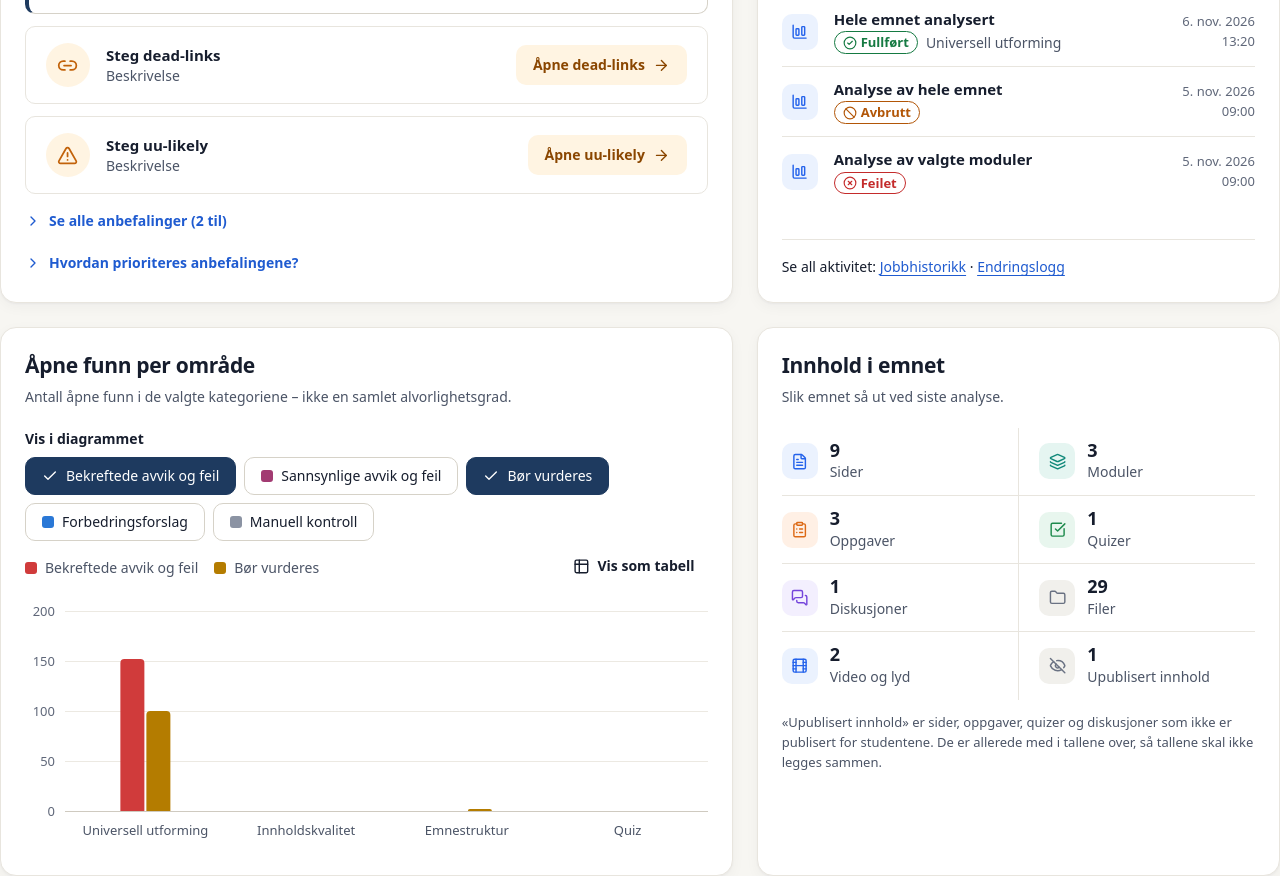
Test: Emneoversikt › shows confirmed violations and «Bør vurderes» in the chart by default; the table follows the choice
(page scrolled)
Check: the text "Antall åpne funn i de valgte kategoriene – ikke en samlet alvorlighetsgrad." is shown, box [25,386,512,408]
Click the button "Vis som tabell" at (634, 566), box [560,549,708,583]
(page scrolled)
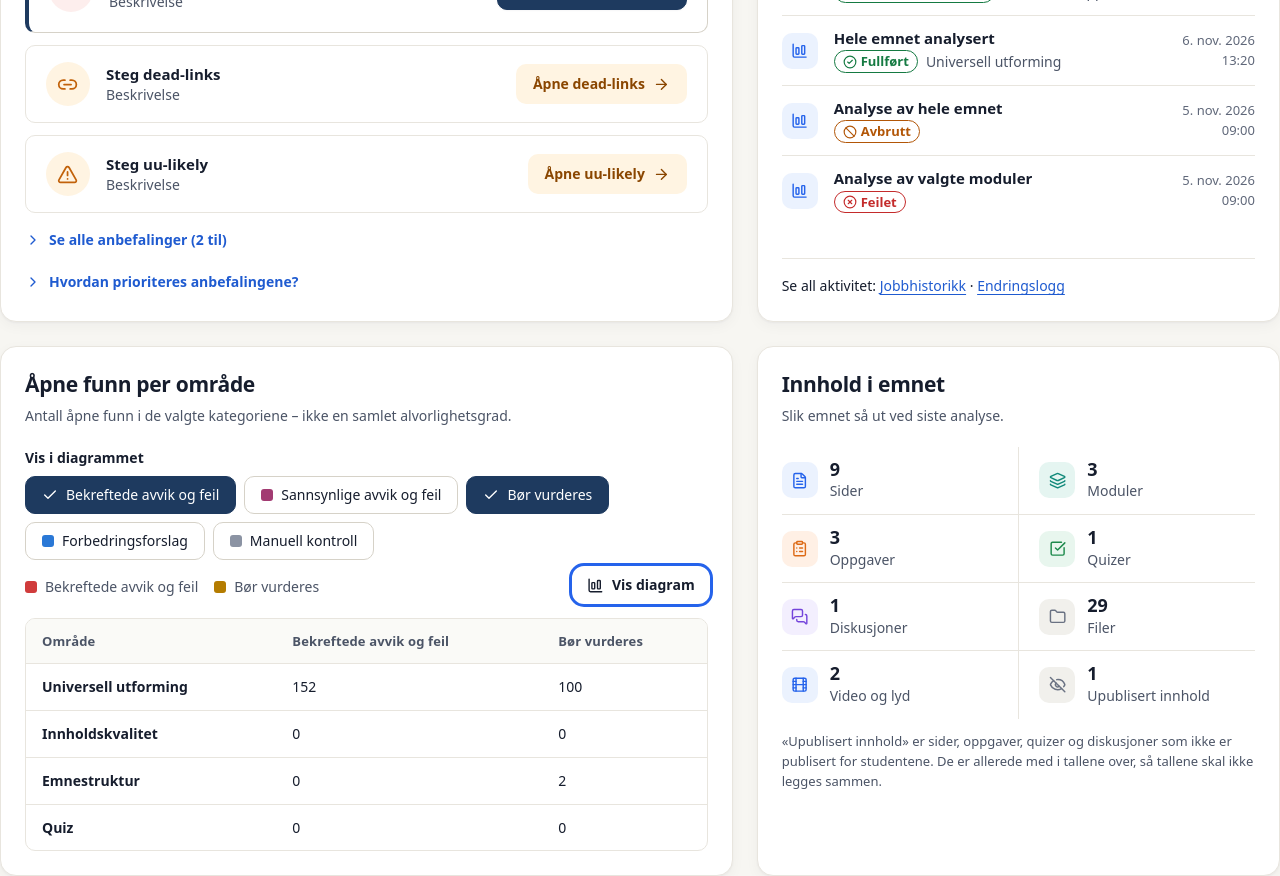
Check: the row "Universell utforming 152 100" is shown, box [26,664,707,711]
Click the button "Sannsynlige avvik og feil" at (351, 495), box [244,476,458,514]
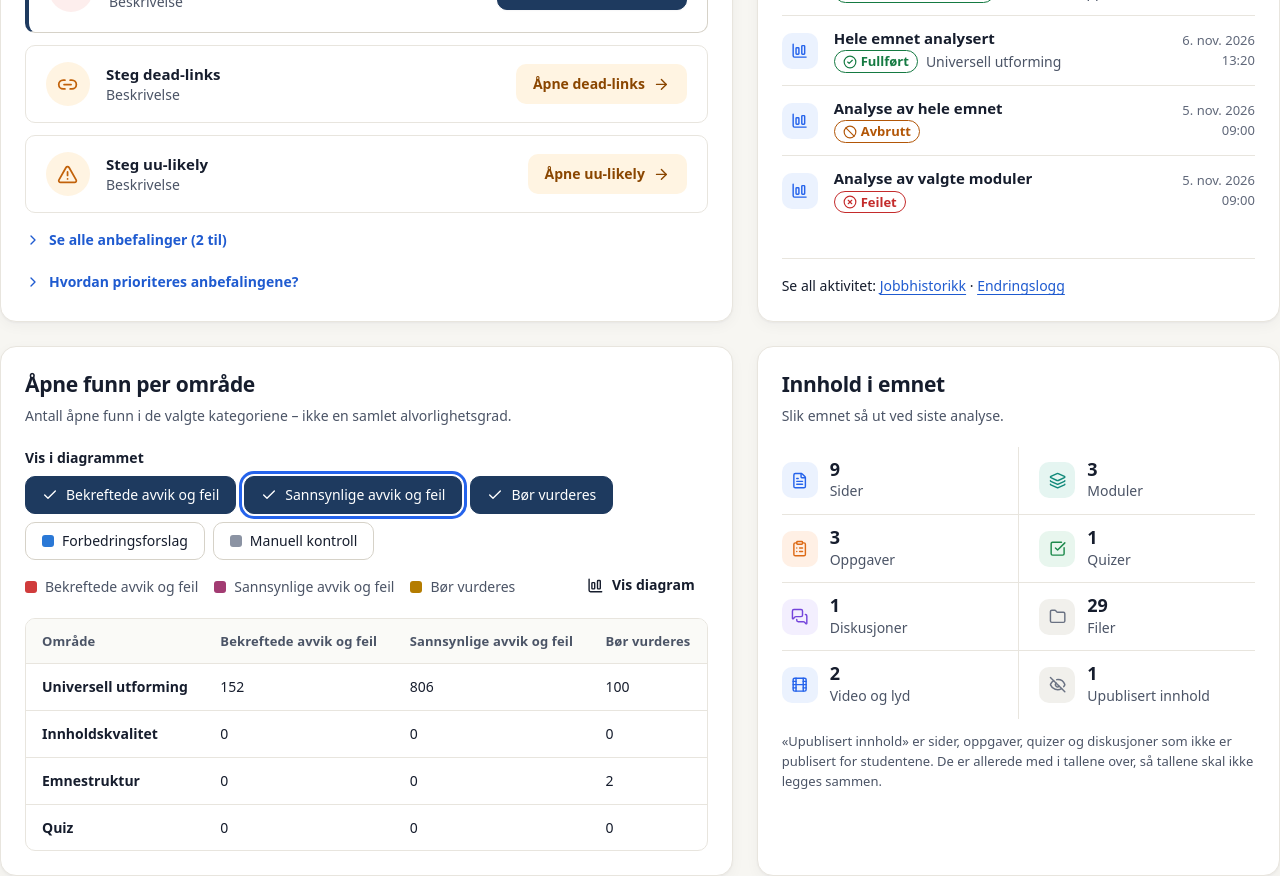
Click the button "Bekreftede avvik og feil" at (131, 495), box [25,476,236,514]
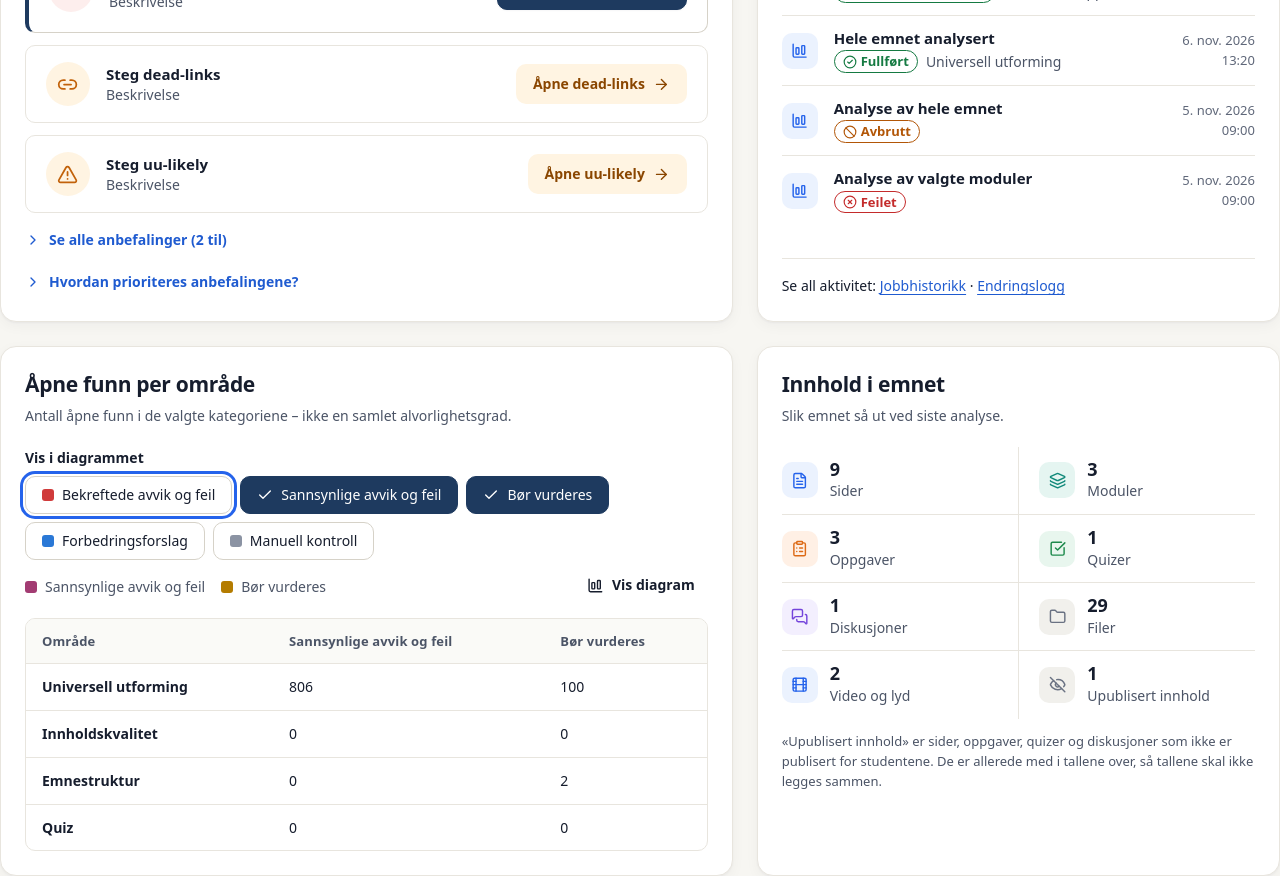
Click the button "Sannsynlige avvik og feil" at (349, 495), box [240,476,458,514]
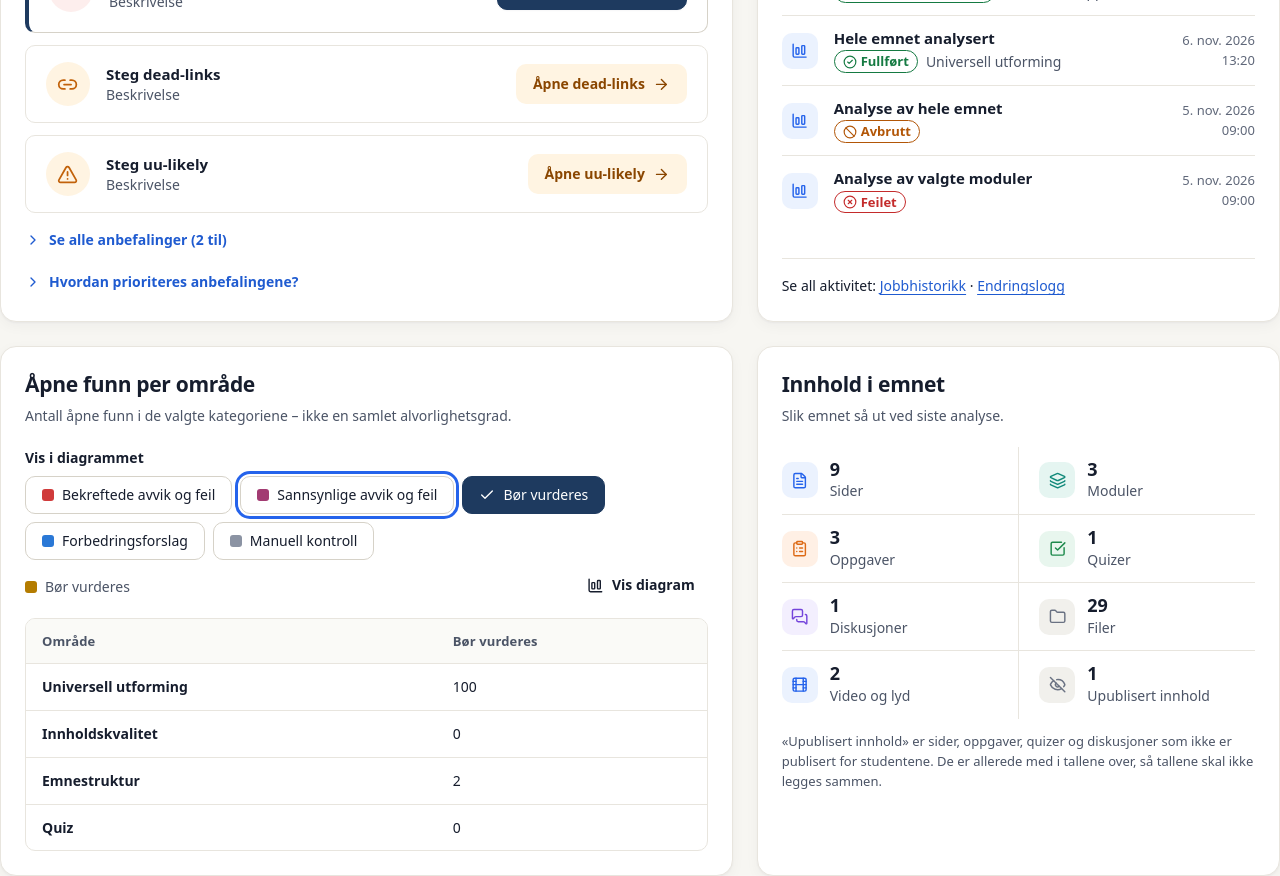
Click the button "Bør vurderes" at (534, 495), box [462,476,605,514]
(page scrolled)
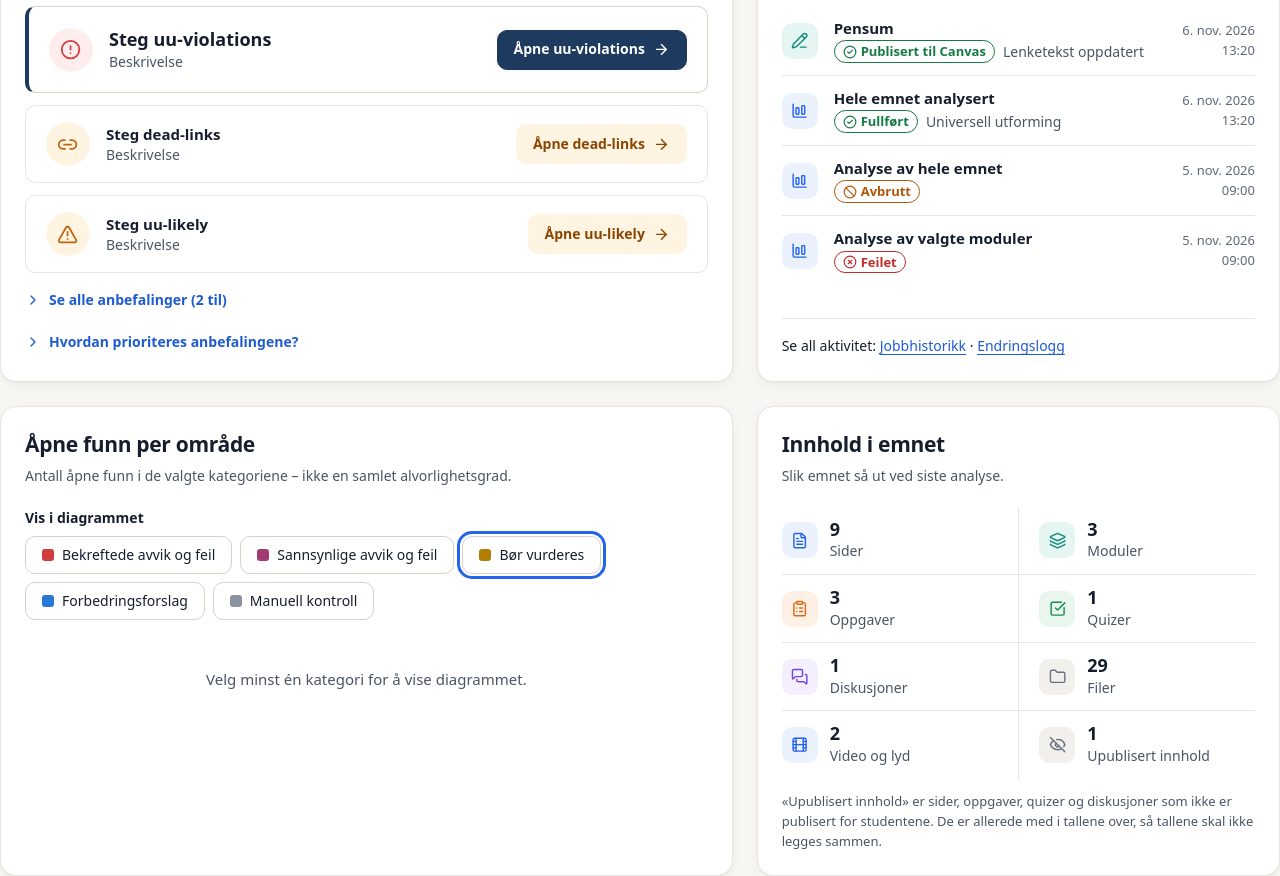
Check: the text "Velg minst én kategori for å vise diagrammet." is shown, box [206,669,527,689]
